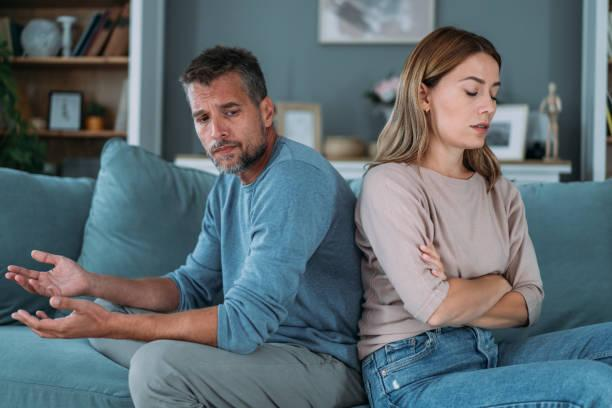long sleeve shirt: (357, 157, 544, 358)
sweater: (166, 135, 362, 374)
trousers: (89, 296, 369, 408), (359, 320, 612, 408)
